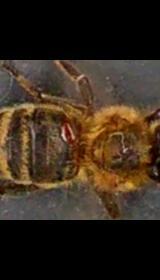varroa_mite: (60, 115, 78, 146)
